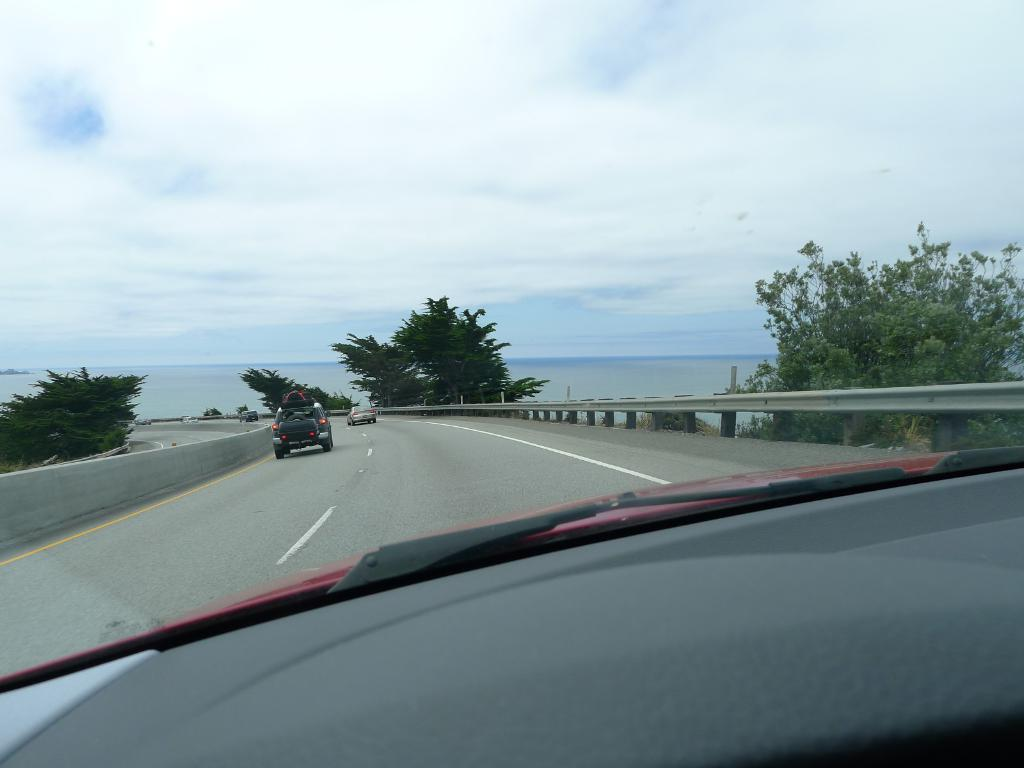Car: (270, 396, 334, 458), (343, 403, 379, 425), (115, 421, 134, 433), (238, 410, 258, 421), (181, 415, 197, 424)
